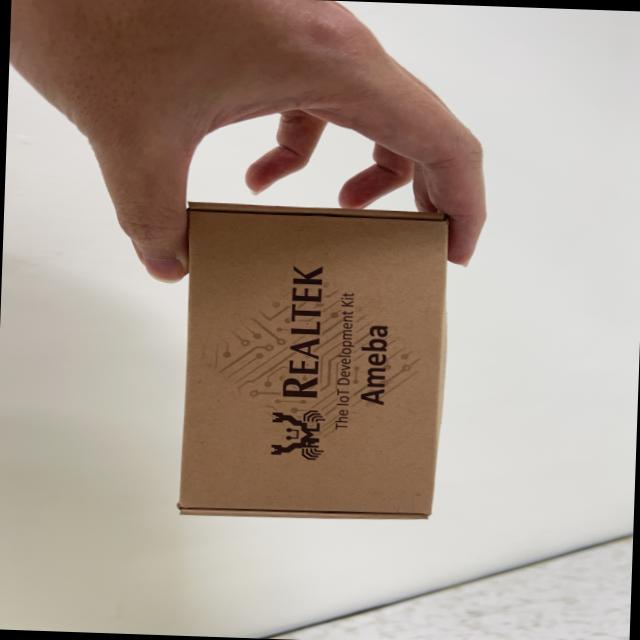box: (164, 193, 460, 544)
